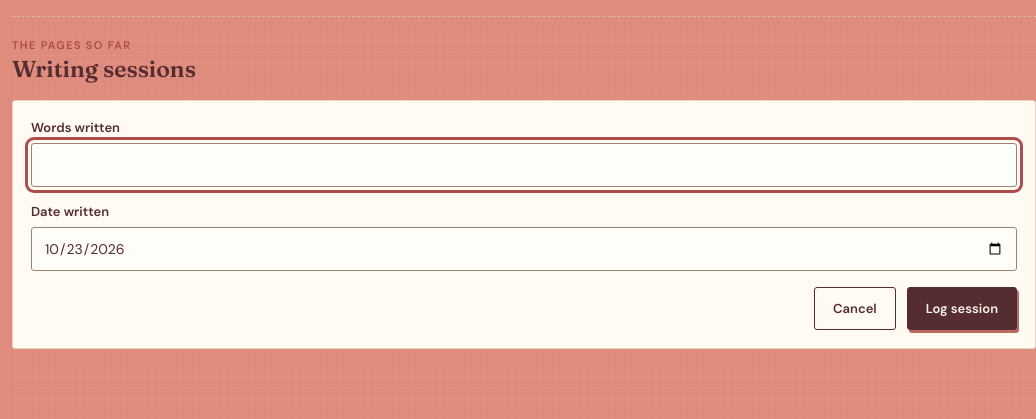
Test case: SessionHistory › keeps the form open and shows the error when saving fails
The image size is (1036, 419).
Type "80" into the field labelled "Words written".
click(524, 165); type("80")  # box [31,143,1017,187]
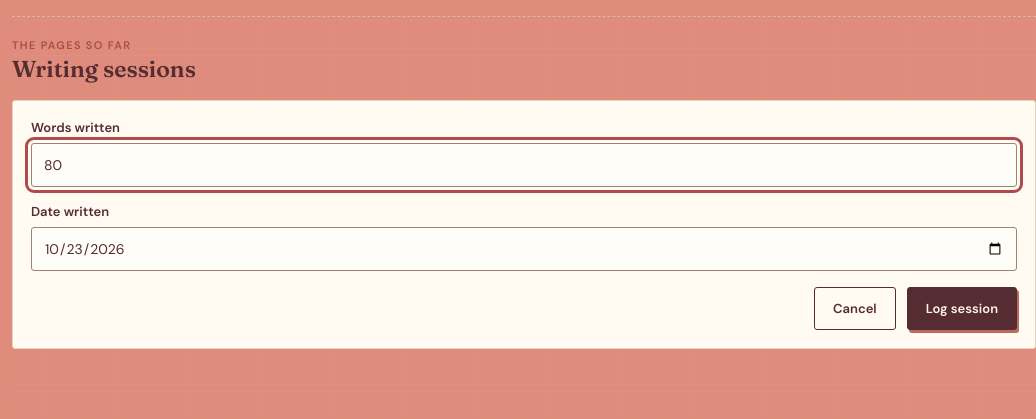
Click the button "Log session".
click(962, 308)  # box [907,287,1017,330]
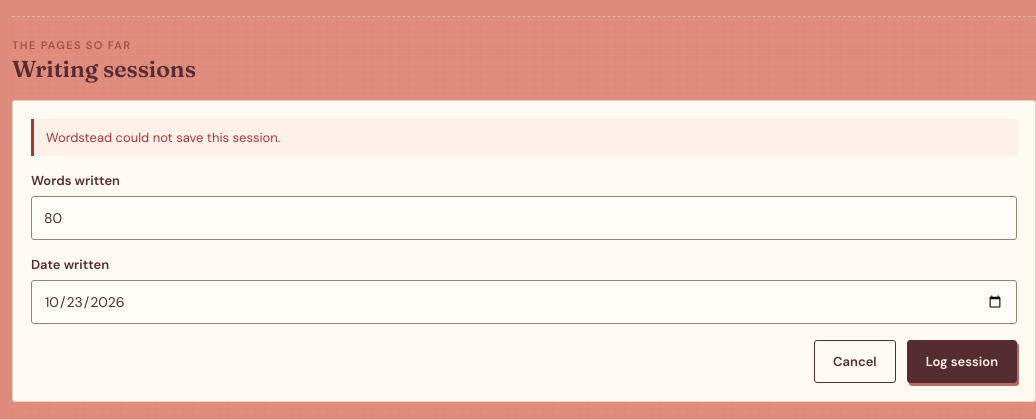
Check: the message reads "Wordstead could not save this session.", box [46,129,280,146]
